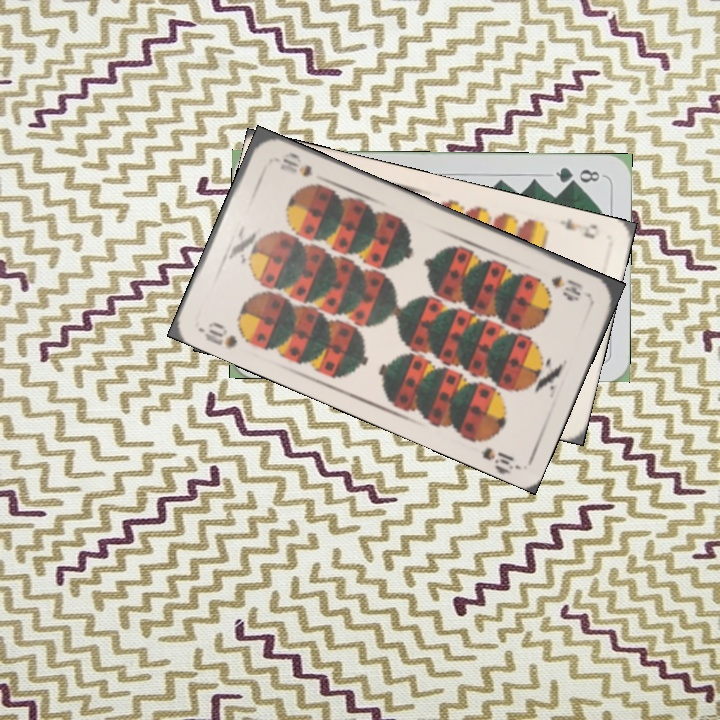E9: (555, 214, 600, 242)
G8: (551, 163, 602, 187)
S10: (196, 317, 240, 352), (547, 271, 592, 301)
